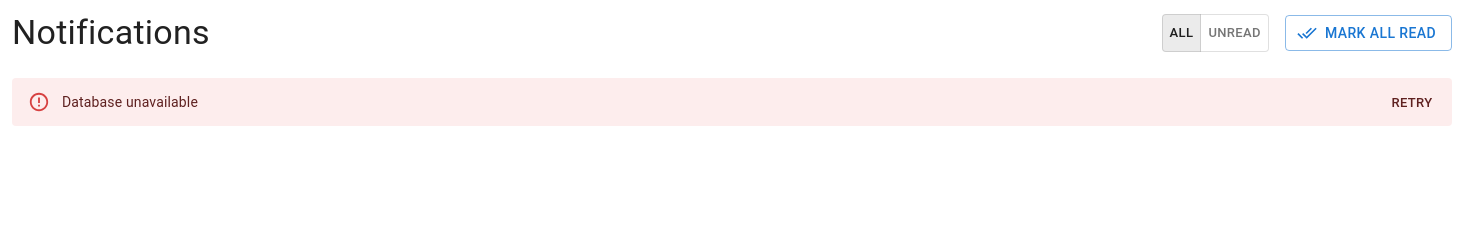
NotificationList › shows the server message and a Retry action when the list fails, not the empty state
Expected: the text "Database unavailable" is shown, left=62, top=94, right=198, bottom=110
Click the button "Retry" at (1412, 103), box left=1380, top=88, right=1444, bottom=119
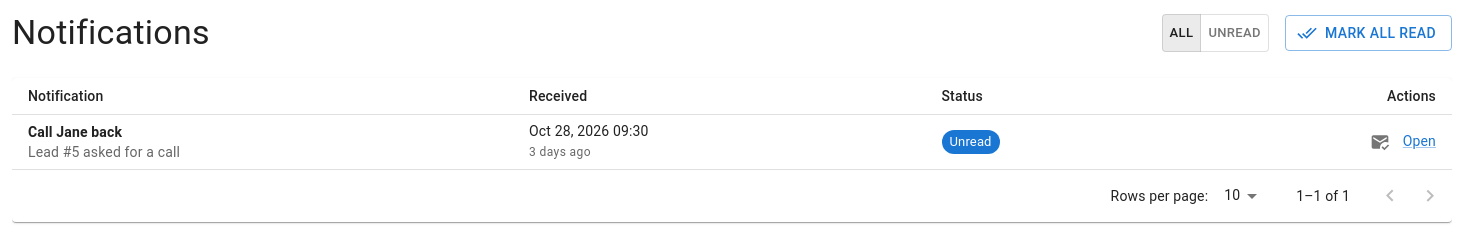
Result: the text "Call Jane back" is shown at left=28, top=124, right=122, bottom=140
Result: the message "Database unavailable Retry" is gone
